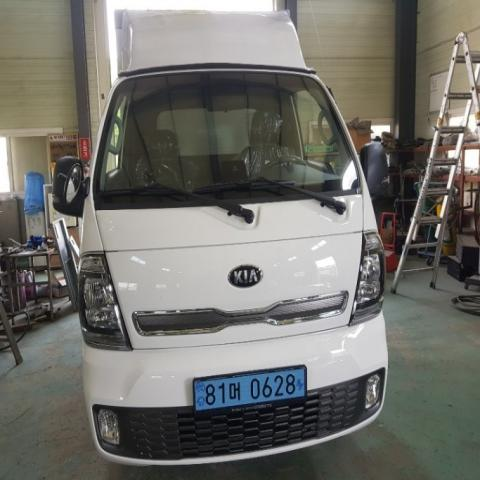LP: (185, 356, 313, 420)
